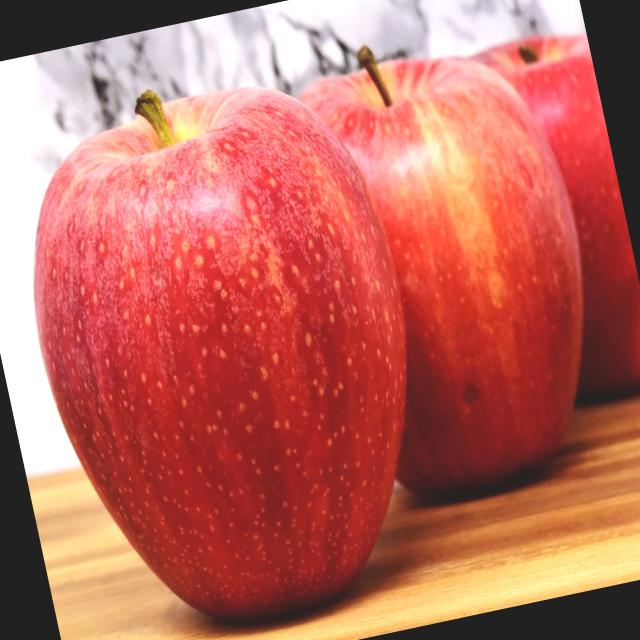apple: (0, 59, 462, 640), (246, 26, 632, 544), (403, 25, 640, 453)
